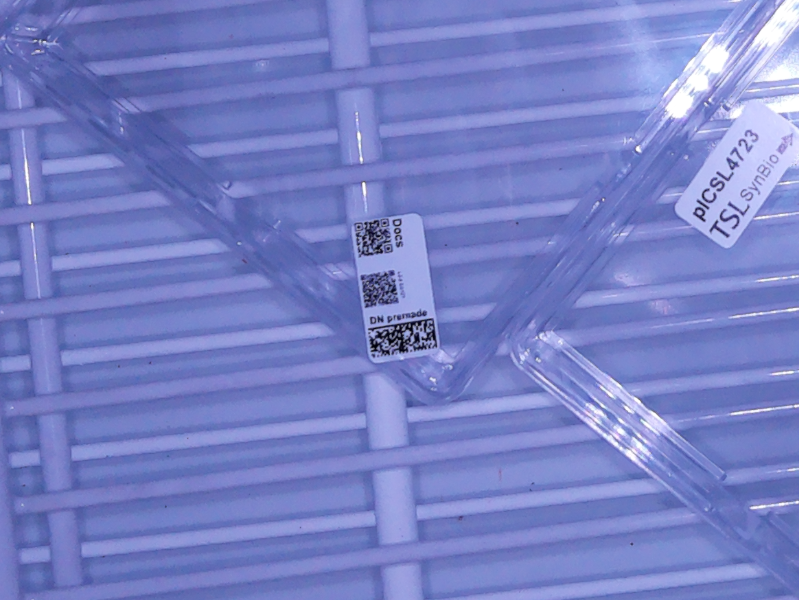plate: (1, 1, 785, 405), (511, 1, 799, 596)
